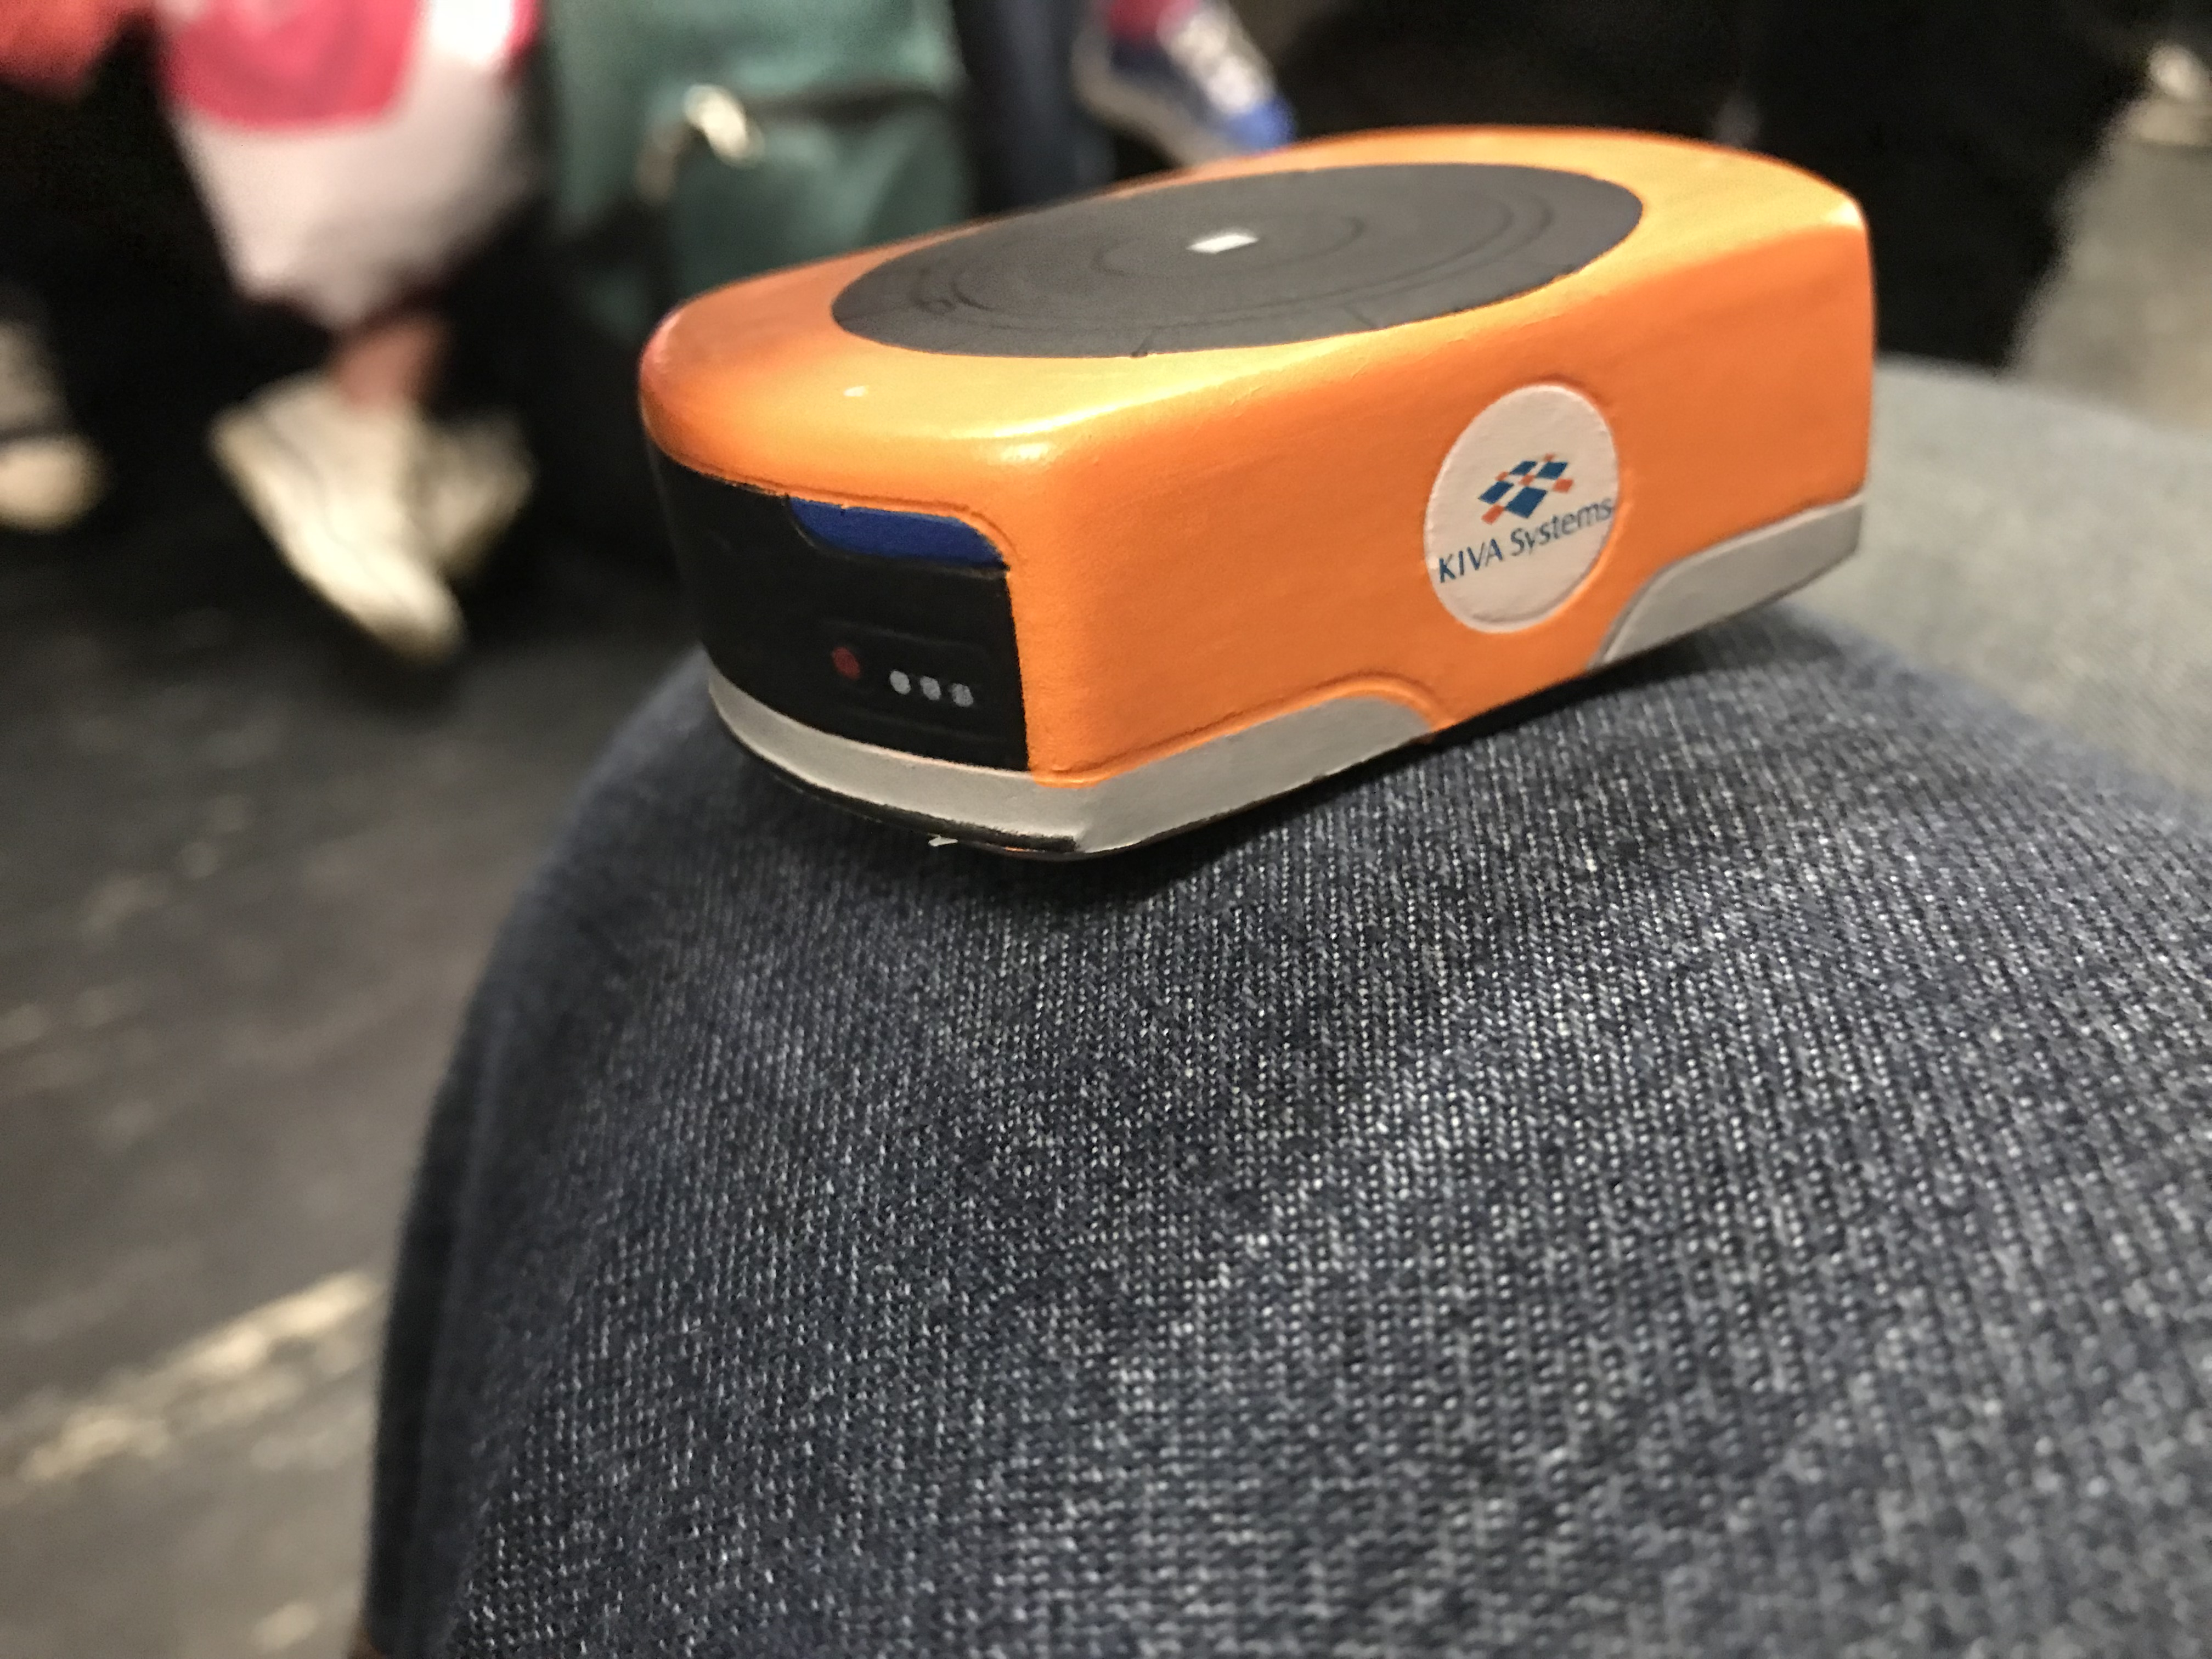amazon_bot: (618, 108, 1902, 884)
